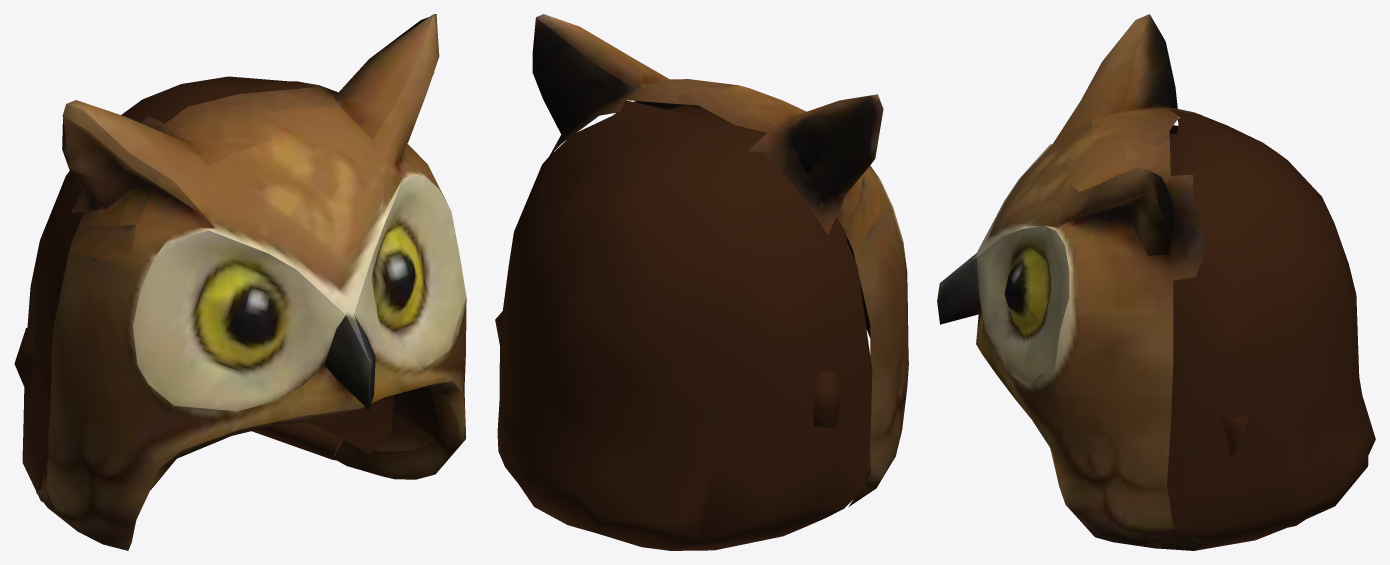
The model's file is owl.glb.
The picture shows the model from 3 angles, left to right: view 1: azimuth 30°, elevation 25°; view 2: azimuth 150°, elevation 25°; view 3: azimuth 270°, elevation 25°; orthographic projection. The views are drawn at different scales.
Visible parts, largest first — view 1: geometry_0, HoodAnatomicalLining; view 2: geometry_0, HoodAnatomicalLining; view 3: geometry_0, HoodAnatomicalLining.
Part boxes in pixels (left/top/right/bottom): geometry_0: left=22, top=14, right=466, bottom=550; HoodAnatomicalLining: left=14, top=187, right=394, bottom=453; geometry_0: left=497, top=14, right=908, bottom=550; HoodAnatomicalLining: left=495, top=105, right=847, bottom=428; geometry_0: left=937, top=14, right=1375, bottom=550; HoodAnatomicalLining: left=1169, top=133, right=1249, bottom=456.
Bounding box in the file's own units: 0.474 × 0.5387 × 0.5309.
Materials: 2 (1 with a texture image).
